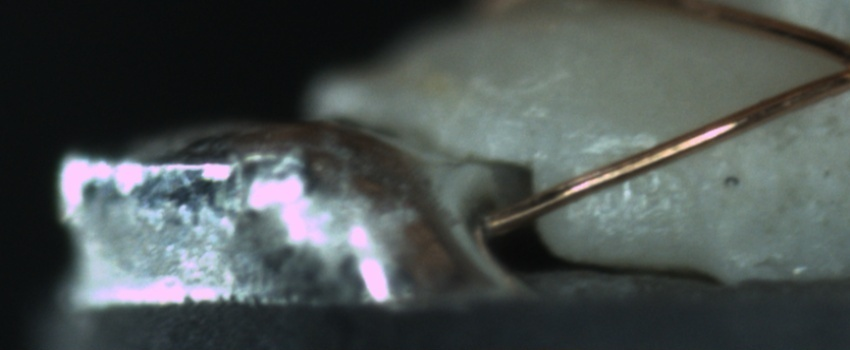CL: (806, 31, 850, 95)
